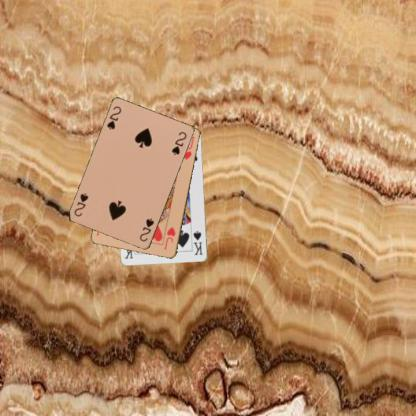2s: (137, 216, 155, 243), (104, 104, 122, 131)
Jh: (161, 225, 177, 251)
Ks: (191, 228, 204, 257)
